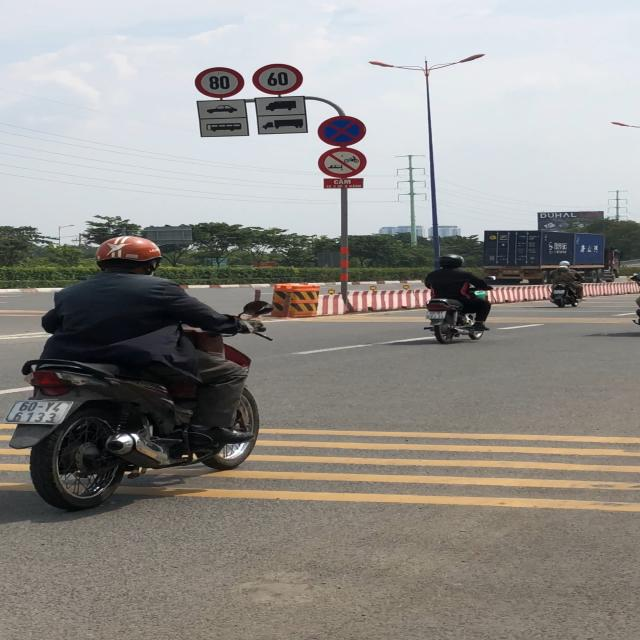Bien bao cam dung xe va do xe: (314, 115, 370, 146)
Bien bao toc do toi da cho phep: (250, 64, 308, 95), (191, 66, 247, 98)
